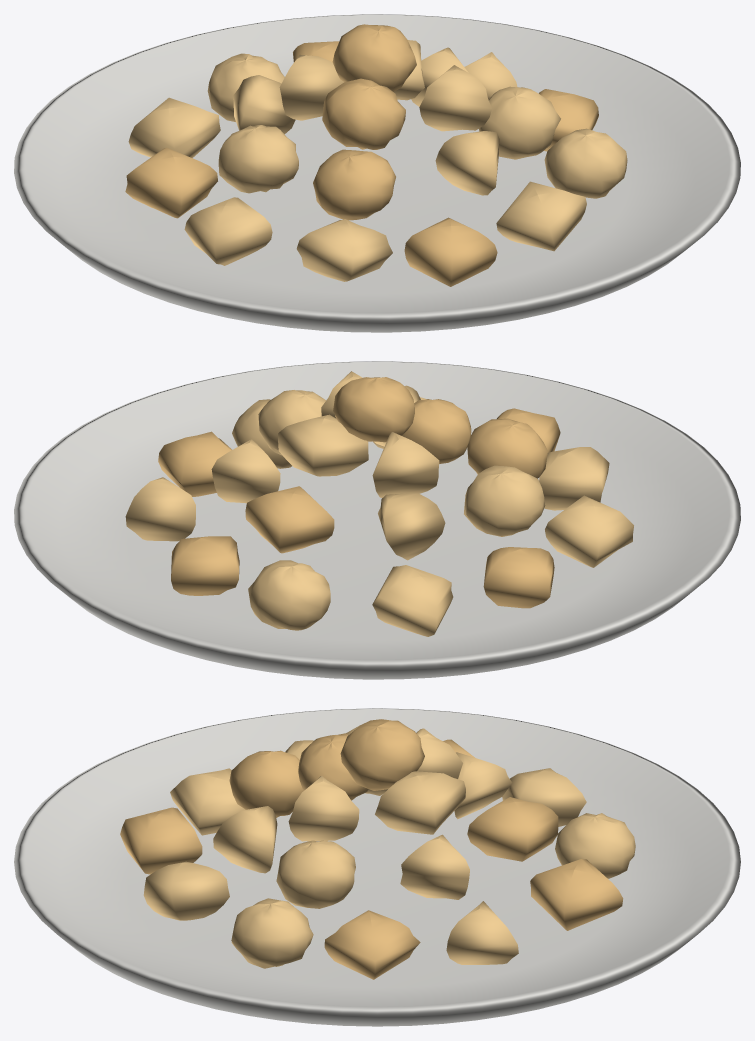
The model's file is baursak.glb.
The picture shows the model from 3 angles, top to bottom: view 1: azimuth 30°, elevation 25°; view 2: azimuth 150°, elevation 25°; view 3: azimuth 270°, elevation 25°; orthographic projection.
Parts seen in each view (by area): view 1: plate, baursak (×22); view 2: plate, baursak (×20); view 3: plate, baursak (×20).
Boxes of the visible parts, <box> form: plate: <box>14,14,740,332</box>; baursak (×22): <box>125,24,627,286</box>; plate: <box>14,361,740,679</box>; baursak (×20): <box>125,377,633,636</box>; plate: <box>14,708,740,1026</box>; baursak (×20): <box>120,719,635,979</box>.
Bounding box in the file's own units: 3.2 × 0.8491 × 3.2.
